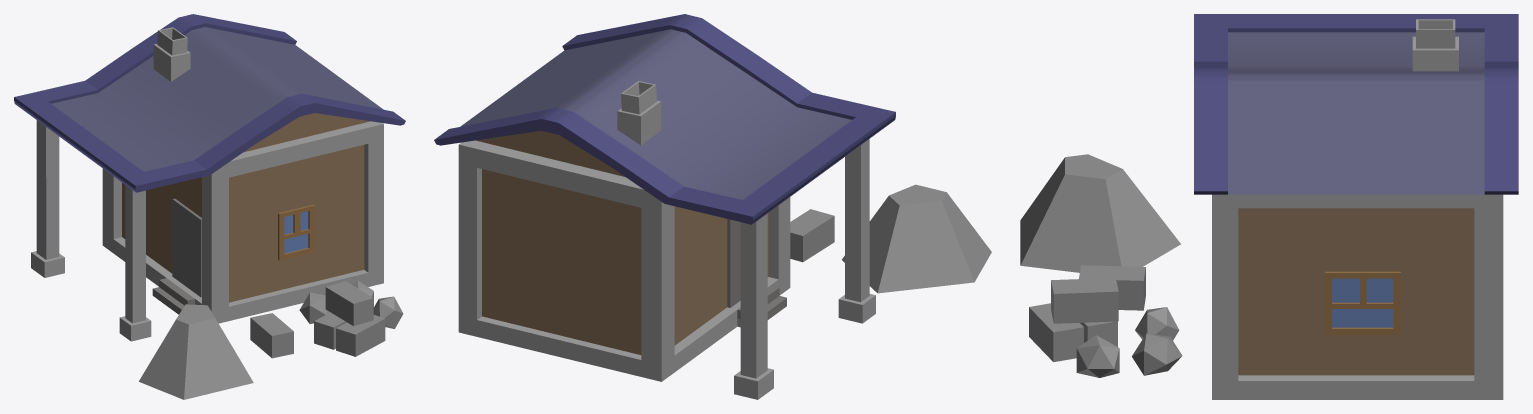
File: quarry.fbx
3 renders of one model, left to right at view 1: azimuth 30°, elevation 25°; view 2: azimuth 150°, elevation 25°; view 3: azimuth 270°, elevation 25°, orthographic. The views are drawn at different scales.
Visible parts, largest first — view 1: quarry; view 2: quarry; view 3: quarry.
Boxes of the visible parts, x1=… form: quarry: x1=14, y1=14, x2=405, y2=399; quarry: x1=434, y1=14, x2=991, y2=399; quarry: x1=1020, y1=14, x2=1518, y2=399.
Bounding box in the file's own units: 63.92 × 44.41 × 68.3.
